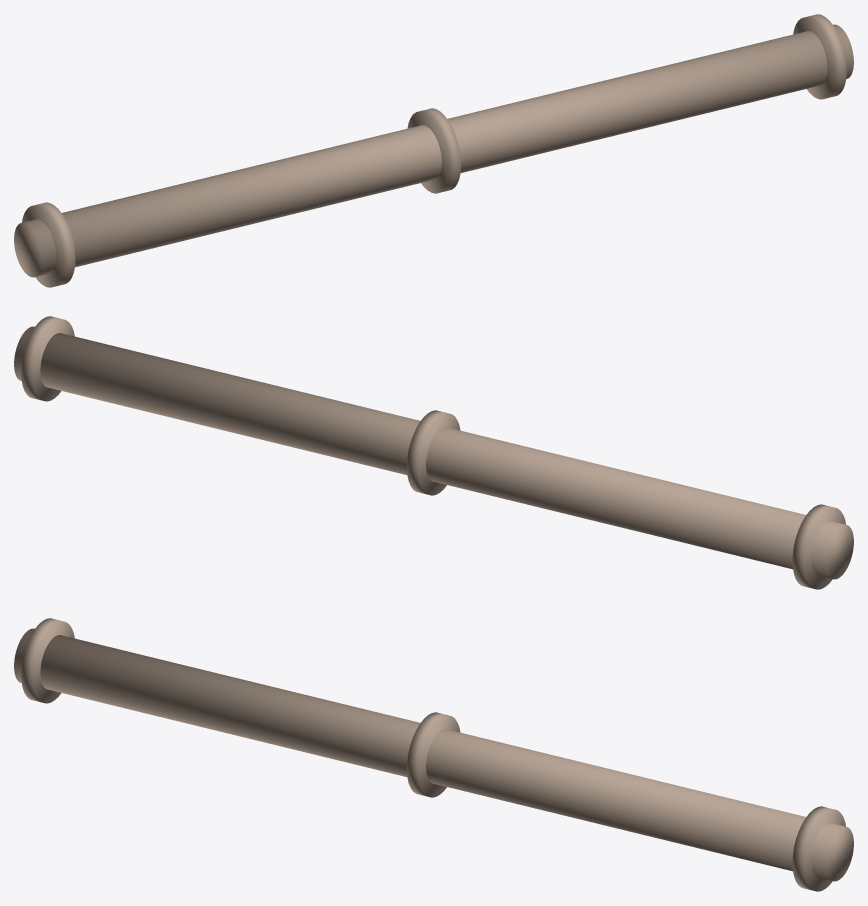
The model's file is SM_Industrial_Pipe.fbx.
The picture shows the model from 3 angles, top to bottom: view 1: azimuth 30°, elevation 25°; view 2: azimuth 150°, elevation 25°; view 3: azimuth 330°, elevation 25°; orthographic projection.
Visible parts, largest first — view 1: Cylinder; view 2: Cylinder; view 3: Cylinder.
Boxes of the visible parts, bbox=[...] form: Cylinder: bbox=[14, 14, 853, 287]; Cylinder: bbox=[14, 316, 853, 589]; Cylinder: bbox=[14, 618, 853, 891].
Bounding box in the file's own units: 400 × 36 × 36.
